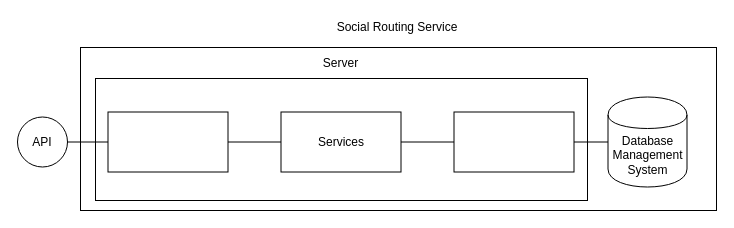
This 734x228 diagram has some shape labels left out. The shapes that lost their labels are listed below. From the top down, each one's centre as x and y in pixels, then its label:
At (167,141): "Controllers".
At (513,141): "Repositories".
